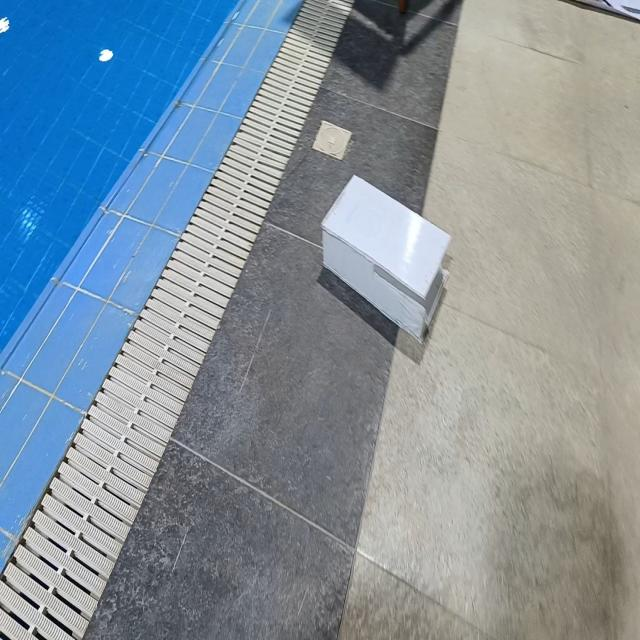Cuboid: (320, 172, 452, 343)
